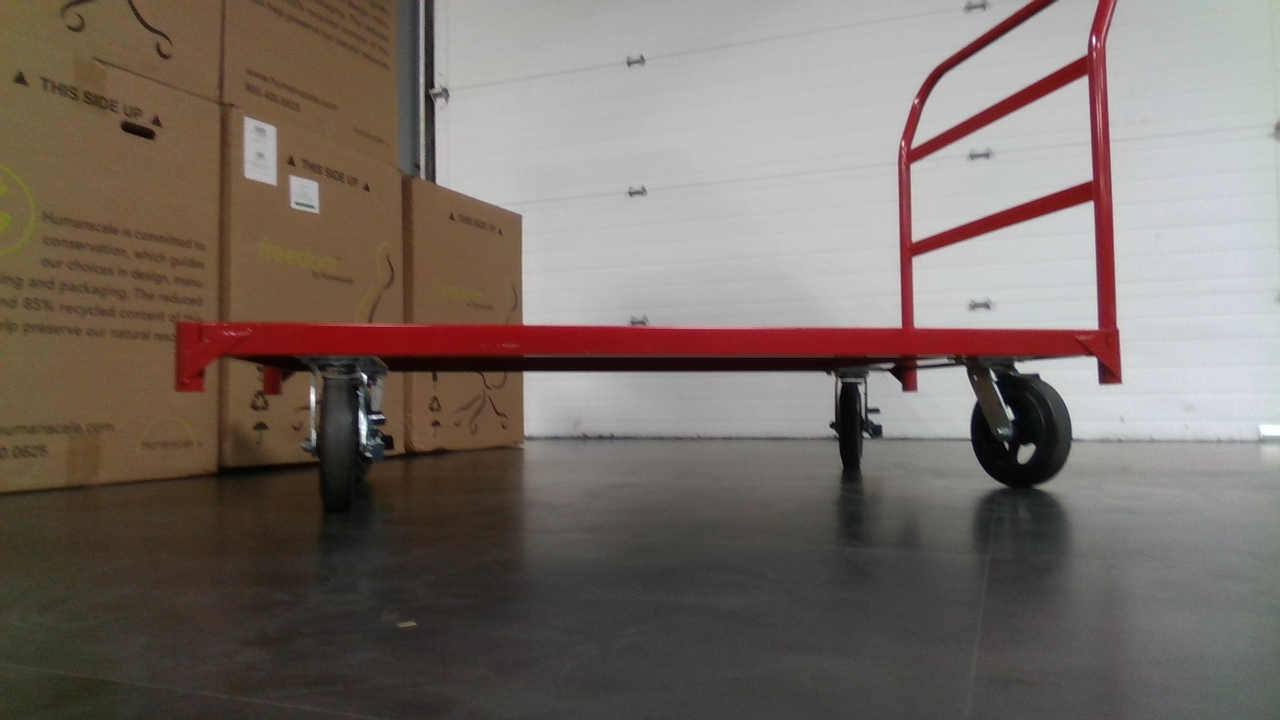Dolly: (167, 0, 1142, 514)
Wheel: (963, 356, 1080, 495), (305, 363, 386, 515), (824, 374, 885, 478)
